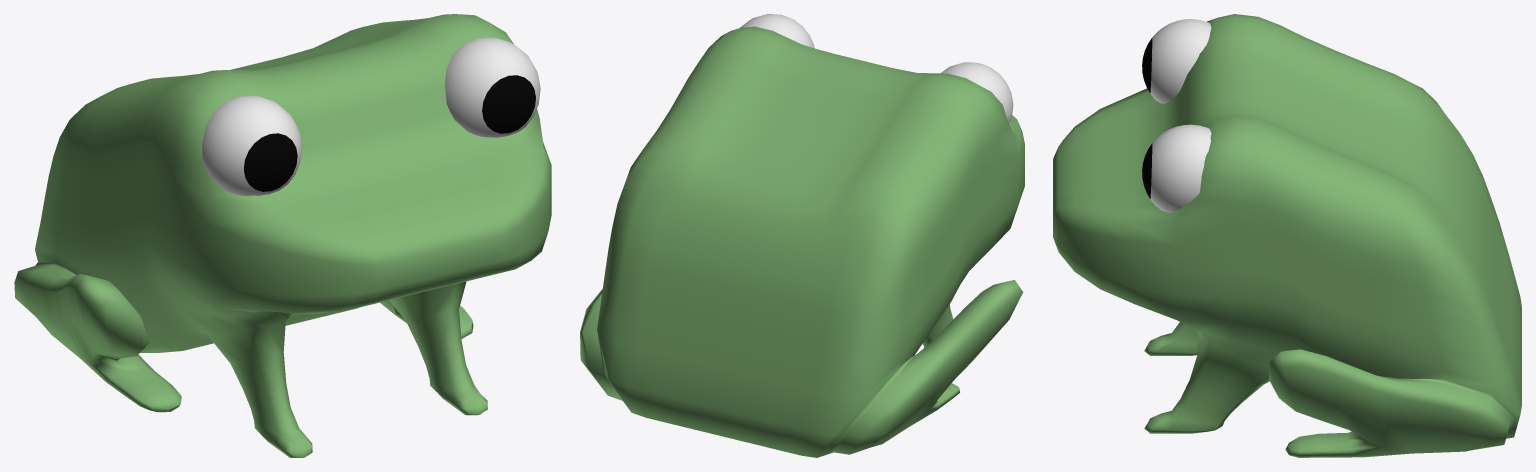
Rendered from frog ai blin.fbx.
3 renders of one model, left to right at view 1: azimuth 30°, elevation 25°; view 2: azimuth 150°, elevation 25°; view 3: azimuth 270°, elevation 25°, orthographic. The views are drawn at different scales.
Visible parts, largest first — view 1: pCube5; view 2: pCube5; view 3: pCube5.
Boxes of the visible parts, <box> form: pCube5: <box>14,14,551,457</box>; pCube5: <box>580,14,1024,457</box>; pCube5: <box>1053,14,1521,457</box>.
Bounding box in the file's own units: 1.35 × 0.9935 × 1.29.
